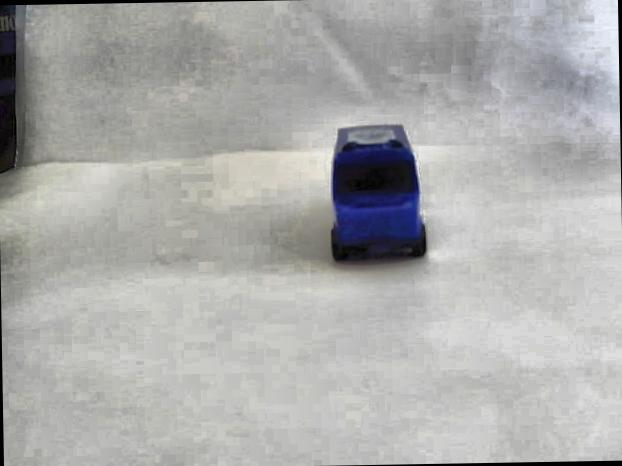police car: (324, 115, 434, 275)
